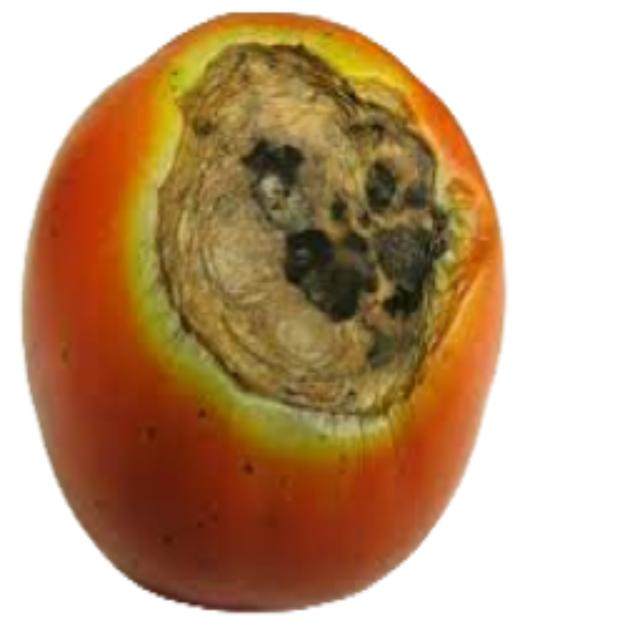defect: (15, 4, 511, 618)
